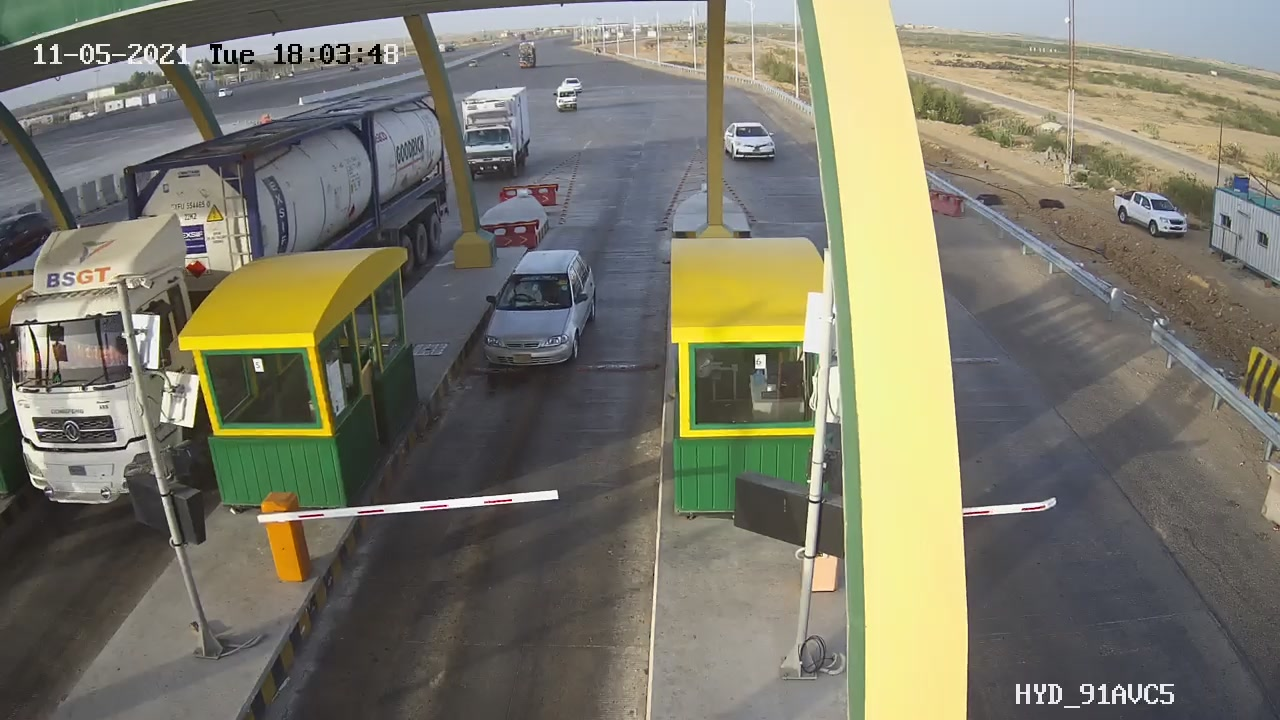F1: (464, 235, 618, 398)
